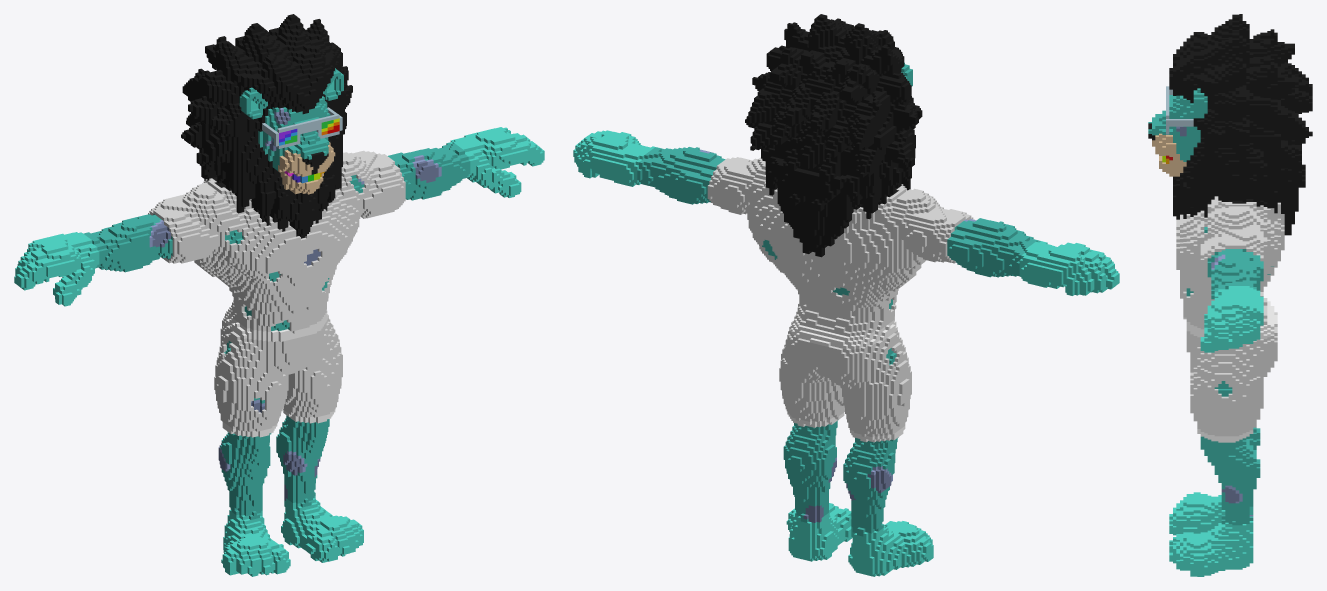
The model's file is 1036-CKomS2gl.glb.
3 renders of one model, left to right at view 1: azimuth 30°, elevation 25°; view 2: azimuth 150°, elevation 25°; view 3: azimuth 270°, elevation 25°, orthographic. The views are drawn at different scales.
Parts seen in each view (by area): view 1: rainbow_grill; view 2: rainbow_grill; view 3: rainbow_grill.
Boxes of the visible parts, x1,y1,x2,y2 form: rainbow_grill: (14, 14, 544, 576); rainbow_grill: (573, 14, 1119, 576); rainbow_grill: (1148, 14, 1312, 576).
Bounding box in the file's own units: 17.2 × 16.5 × 4.7.
Materials: 5 (5 with a texture image).
